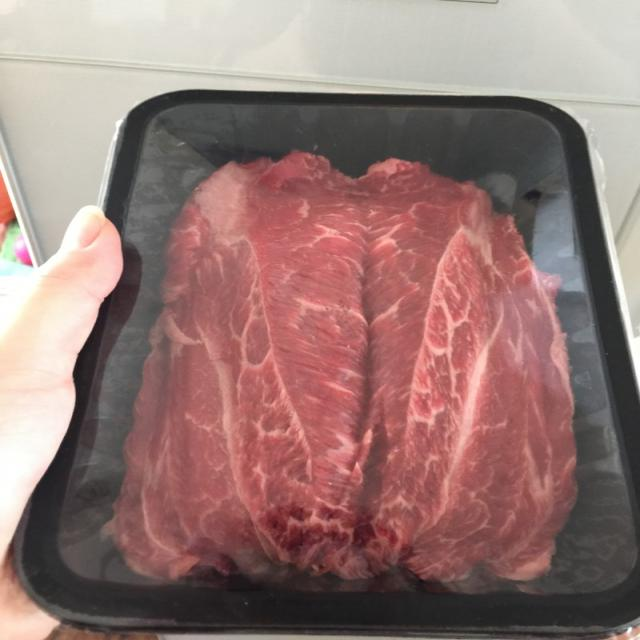beef: (148, 116, 578, 589)
